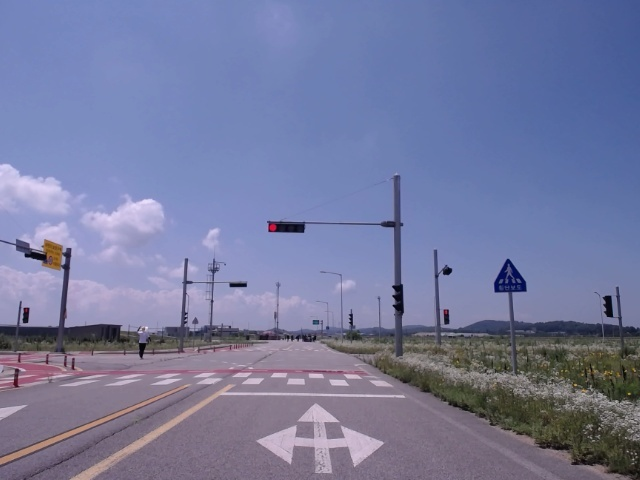red_4: (267, 223, 304, 233)
